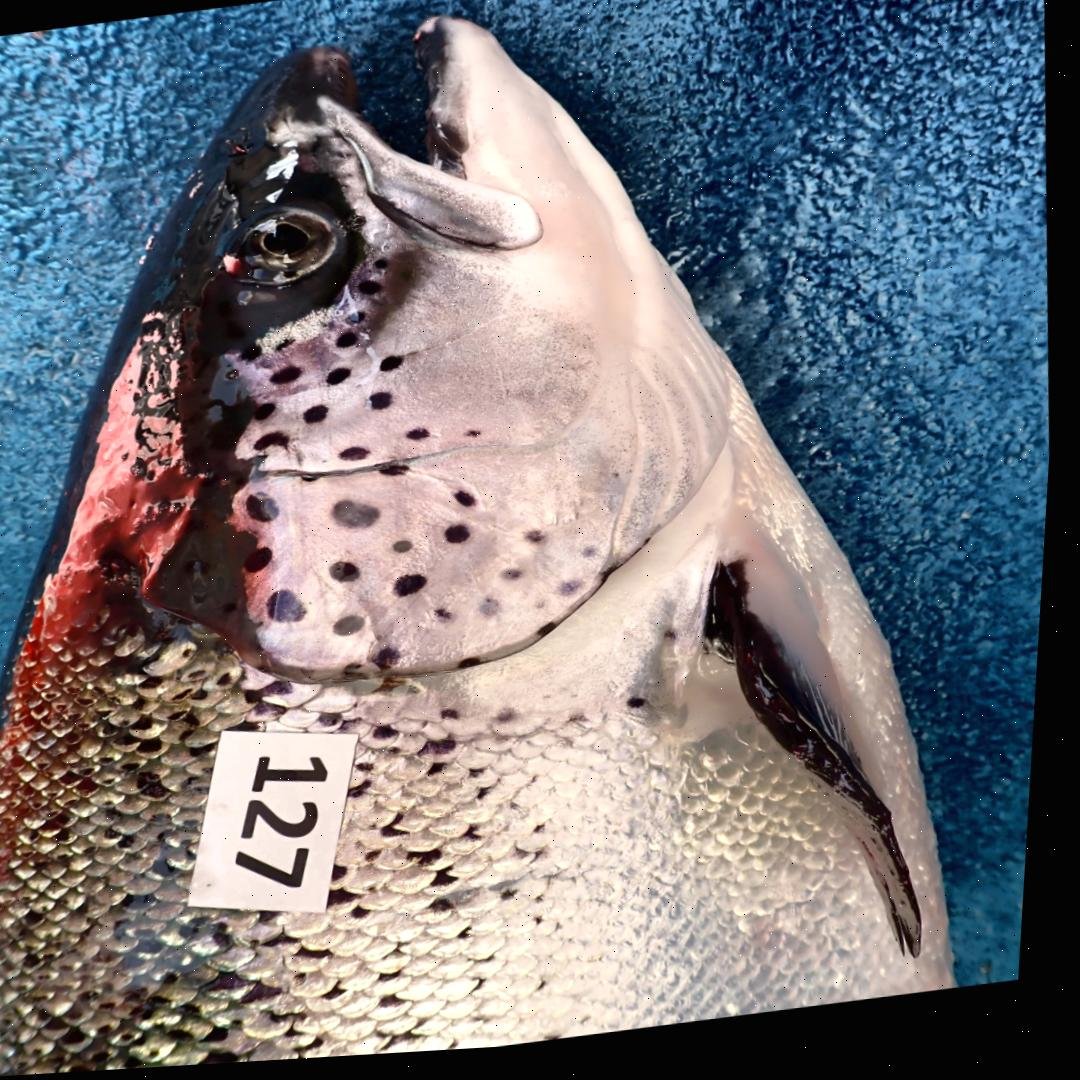spot: (272, 593, 314, 628), (338, 504, 385, 534), (252, 497, 285, 527), (401, 579, 434, 603), (251, 551, 280, 577), (341, 619, 373, 641), (260, 436, 295, 455), (380, 653, 409, 675), (273, 370, 305, 389), (336, 566, 366, 586), (450, 530, 477, 551), (274, 335, 301, 356), (254, 457, 272, 487), (348, 667, 374, 687), (306, 409, 333, 428), (345, 451, 375, 467), (484, 604, 508, 624), (332, 371, 355, 390), (374, 397, 397, 416), (359, 285, 386, 301), (340, 335, 363, 353), (566, 587, 590, 604), (465, 662, 492, 677), (259, 406, 280, 425), (243, 348, 266, 365), (384, 361, 408, 377), (384, 470, 414, 482), (461, 497, 482, 514), (440, 613, 461, 629), (589, 552, 610, 568), (507, 575, 531, 588), (544, 629, 564, 644), (530, 537, 551, 551), (413, 434, 433, 446), (401, 546, 418, 559), (351, 317, 369, 329), (540, 606, 555, 618), (328, 320, 339, 336), (376, 264, 391, 275), (305, 479, 325, 487), (471, 435, 486, 444)
